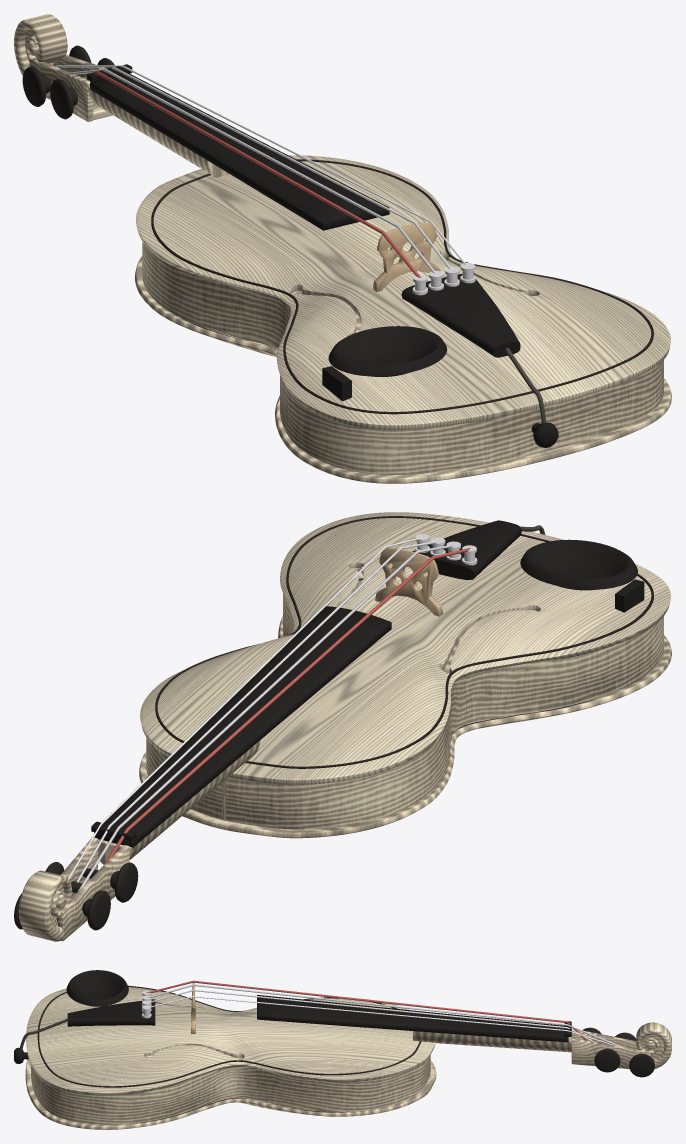
File: violin.glb
3 views of the same model, one above another, from view 1: azimuth 30°, elevation 25°; view 2: azimuth 150°, elevation 25°; view 3: azimuth 270°, elevation 25° (orthographic). The views are drawn at different scales.
Parts seen in each view (by area): view 1: Violin_Top, Violin_Ribs, Fingerboard, Violin_Back, ChinRest, Tailpiece, Purfling_Top, Bridge, Scroll, Pegbox, Neck, String_G (+5 smaller); view 2: Violin_Top, Violin_Ribs, Fingerboard, ChinRest, Violin_Back, Scroll, Purfling_Top, Tailpiece, Pegbox, Bridge, String_G, String_D (+5 smaller); view 3: Violin_Top, Violin_Ribs, Fingerboard, Violin_Back, ChinRest, Neck, Tailpiece, Pegbox, Purfling_Top, String_G, Scroll, String_D (+4 smaller).
Part boxes in pixels (<box>): Violin_Top: <box>136,155,670,429</box>; Violin_Ribs: <box>142,241,663,475</box>; Fingerboard: <box>90,73,389,230</box>; Violin_Back: <box>135,256,671,483</box>; ChinRest: <box>322,326,447,401</box>; Tailpiece: <box>401,273,520,357</box>; Purfling_Top: <box>151,159,653,414</box>; Bridge: <box>372,222,440,291</box>; Scroll: <box>14,14,67,75</box>; Pegbox: <box>29,55,112,121</box>; Neck: <box>88,86,229,177</box>; String_G: <box>94,70,421,277</box>; Violin_Top: <box>140,512,670,784</box>; Violin_Ribs: <box>146,568,663,829</box>; Fingerboard: <box>94,606,391,847</box>; ChinRest: <box>520,539,644,612</box>; Violin_Back: <box>139,572,671,838</box>; Scroll: <box>19,870,72,941</box>; Purfling_Top: <box>155,516,653,768</box>; Tailpiece: <box>412,520,521,579</box>; Pegbox: <box>57,837,129,941</box>; Bridge: <box>375,547,443,616</box>; String_G: <box>104,548,470,864</box>; String_D: <box>77,544,454,891</box>; Violin_Top: <box>26,985,435,1095</box>; Violin_Ribs: <box>31,1055,430,1124</box>; Fingerboard: <box>257,994,568,1042</box>; Violin_Back: <box>25,1054,436,1129</box>; ChinRest: <box>66,970,128,1006</box>; Neck: <box>413,1031,571,1052</box>; Tailpiece: <box>67,999,155,1026</box>; Pegbox: <box>571,1028,650,1068</box>; Purfling_Top: <box>37,985,421,1087</box>; String_G: <box>146,980,588,1040</box>; Scroll: <box>636,1022,671,1069</box>; String_D: <box>147,984,620,1046</box>.
Size of the model in its own units: 0.2092 by 0.0923 by 0.5329.
12 materials, 2 textured.
